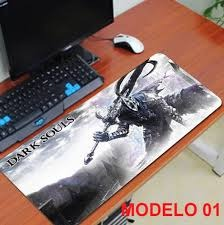keyboard: (0, 70, 106, 160)
mouse: (108, 28, 149, 59)
